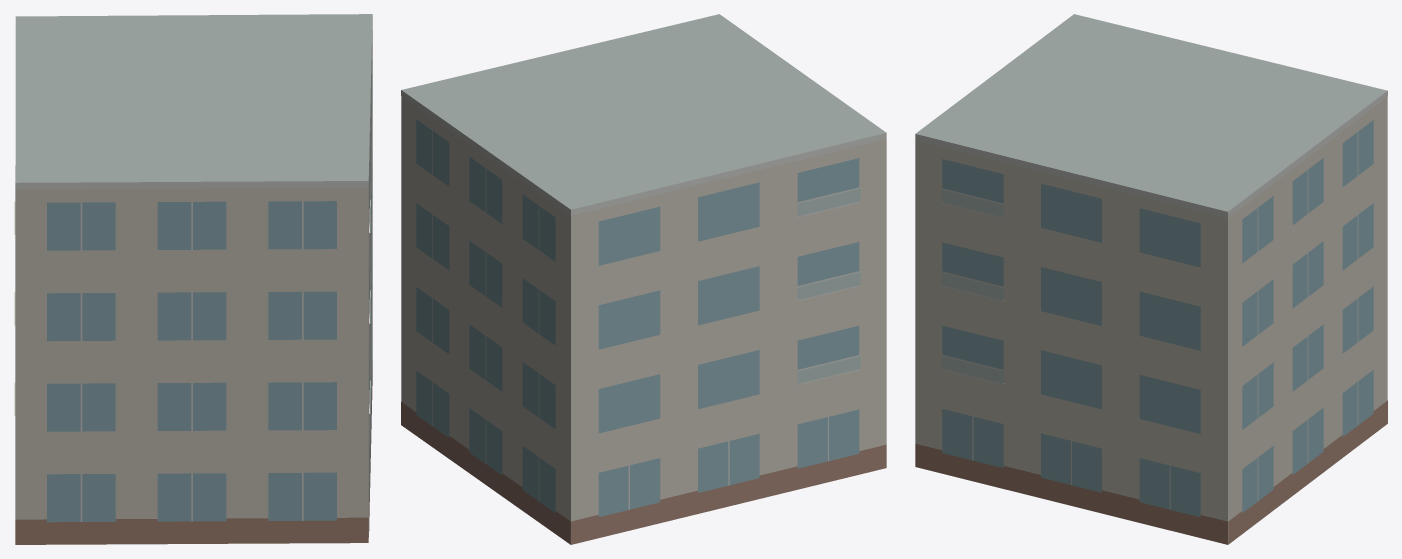
File: survey-upis-32689233.glb
The picture shows the model from 3 angles, left to right: view 1: azimuth 30°, elevation 25°; view 2: azimuth 150°, elevation 25°; view 3: azimuth 270°, elevation 25°; orthographic projection. The views are drawn at different scales.
Visible parts, largest first — view 1: survey-upis-32689233.tmp; view 2: survey-upis-32689233.tmp; view 3: survey-upis-32689233.tmp.
Boxes of the visible parts, bbox=[...] form: survey-upis-32689233.tmp: bbox=[14, 14, 372, 544]; survey-upis-32689233.tmp: bbox=[401, 14, 886, 544]; survey-upis-32689233.tmp: bbox=[915, 14, 1387, 544].
Bounding box in the file's own units: 16.77 × 13.16 × 16.93.
